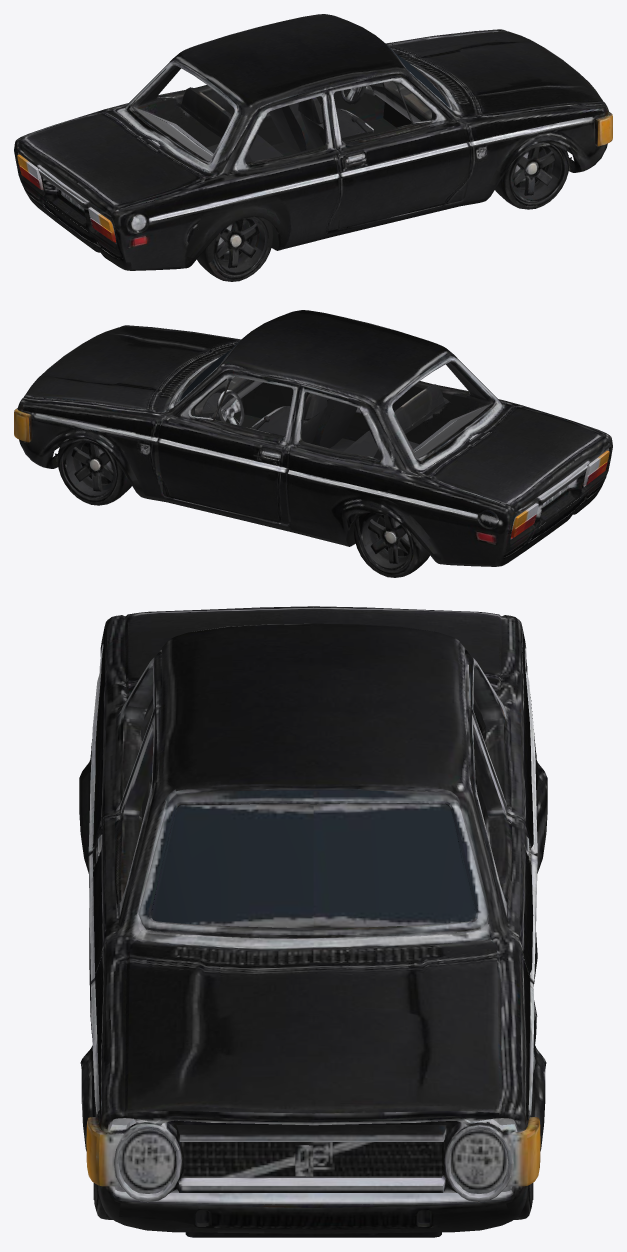
3 renders of one model, top to bottom at view 1: azimuth 30°, elevation 25°; view 2: azimuth 150°, elevation 25°; view 3: azimuth 270°, elevation 25°, orthographic. The views are drawn at different scales.
Parts seen in each view (by area): view 1: body, wheel_front_right_wheel, wheel_rear_right_wheel; view 2: body, wheel_front_left_wheel, wheel_rear_left_wheel; view 3: body.
Boxes of the visible parts, x1,y1,x2,y2 form: body: (14, 14, 612, 270); wheel_front_right_wheel: (495, 141, 569, 209); wheel_rear_right_wheel: (197, 216, 273, 281); body: (14, 310, 612, 566); wheel_front_left_wheel: (57, 437, 131, 505); wheel_rear_left_wheel: (353, 512, 429, 577); body: (79, 606, 547, 1237).
Size of the model in its own units: 3.99 by 1.26 by 1.61.
Materials: 1 (1 with a texture image).
